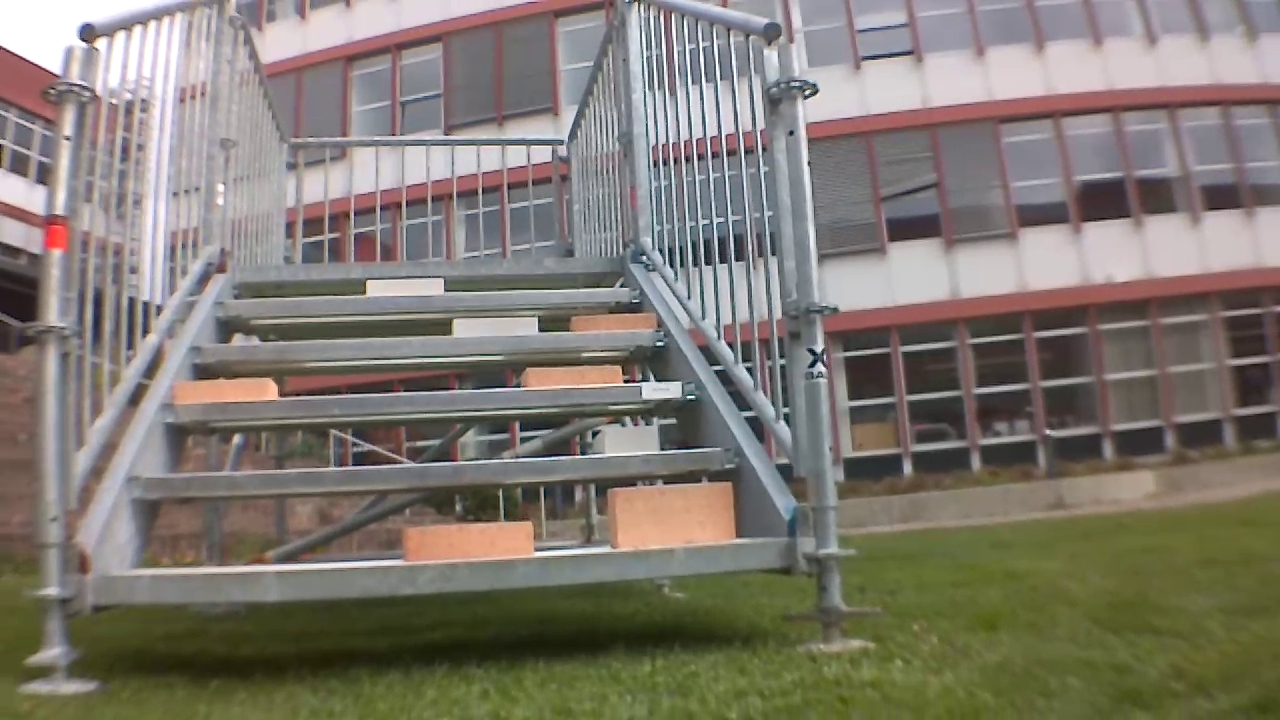brick: (606, 482, 736, 550), (398, 520, 537, 565), (162, 370, 291, 405), (588, 426, 661, 457), (522, 365, 624, 387), (440, 317, 546, 338), (570, 308, 662, 331), (360, 274, 449, 289)
edge: (91, 539, 808, 611), (123, 449, 737, 504), (174, 384, 698, 428), (214, 287, 644, 320), (231, 257, 626, 279), (193, 343, 674, 360)
stairs: (51, 1, 821, 669)
steps: (65, 254, 834, 590)
